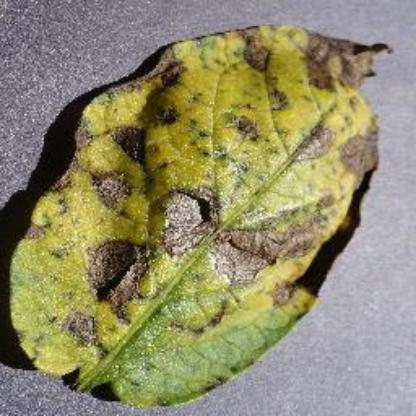Early-Blight: (7, 10, 411, 412)
